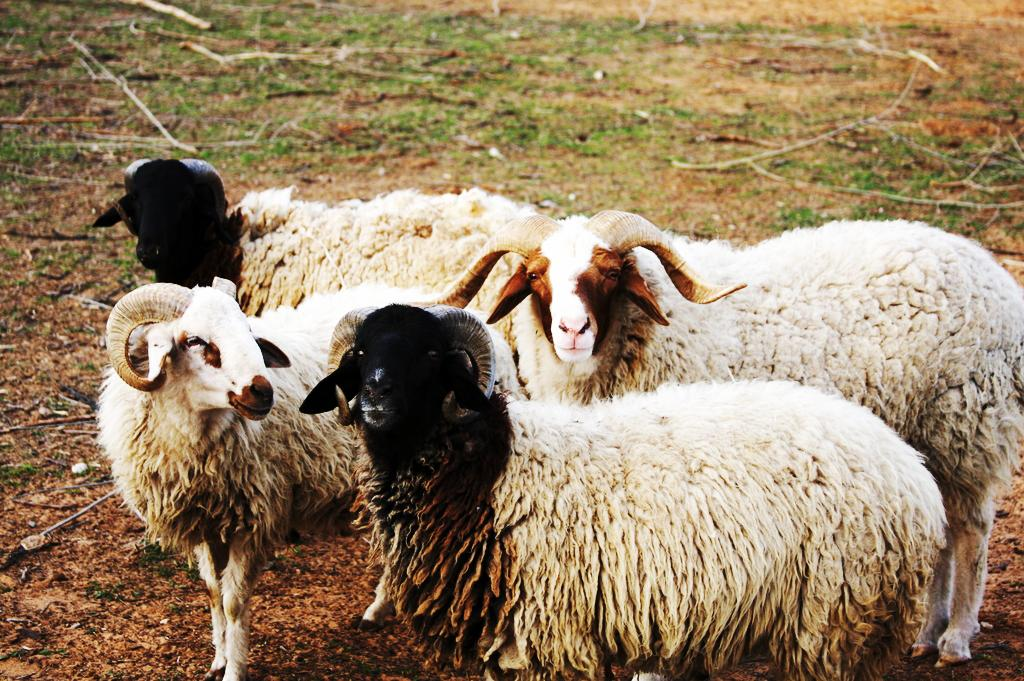Sheep: (325, 287, 978, 681), (482, 200, 1024, 666), (77, 259, 467, 636), (93, 136, 545, 378)
